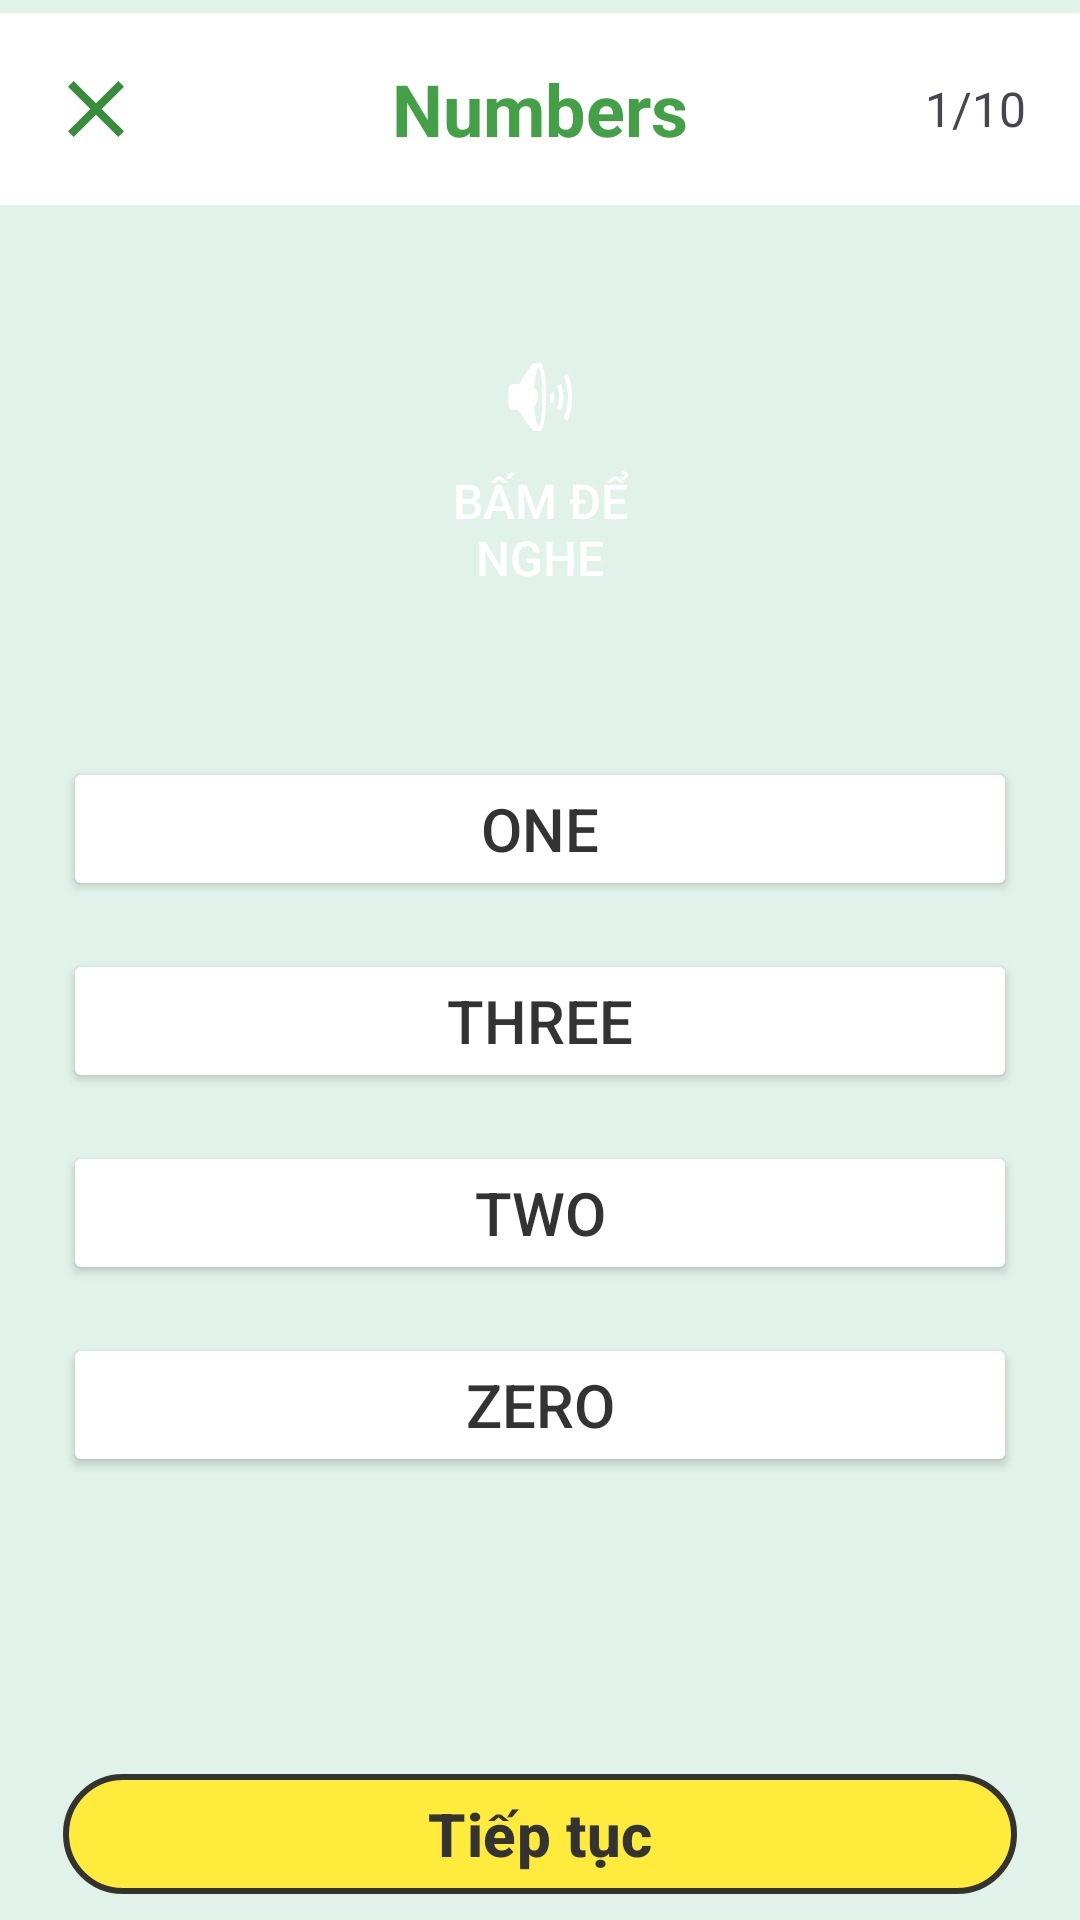

Point at icon controls on the screen. Image size 1080 x 1920, points as (x,y).
close: (96,109)
